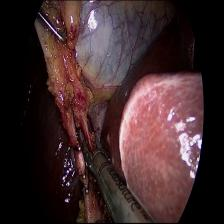Clipper: (78, 114, 115, 194)
Grasper: (38, 0, 70, 49)
